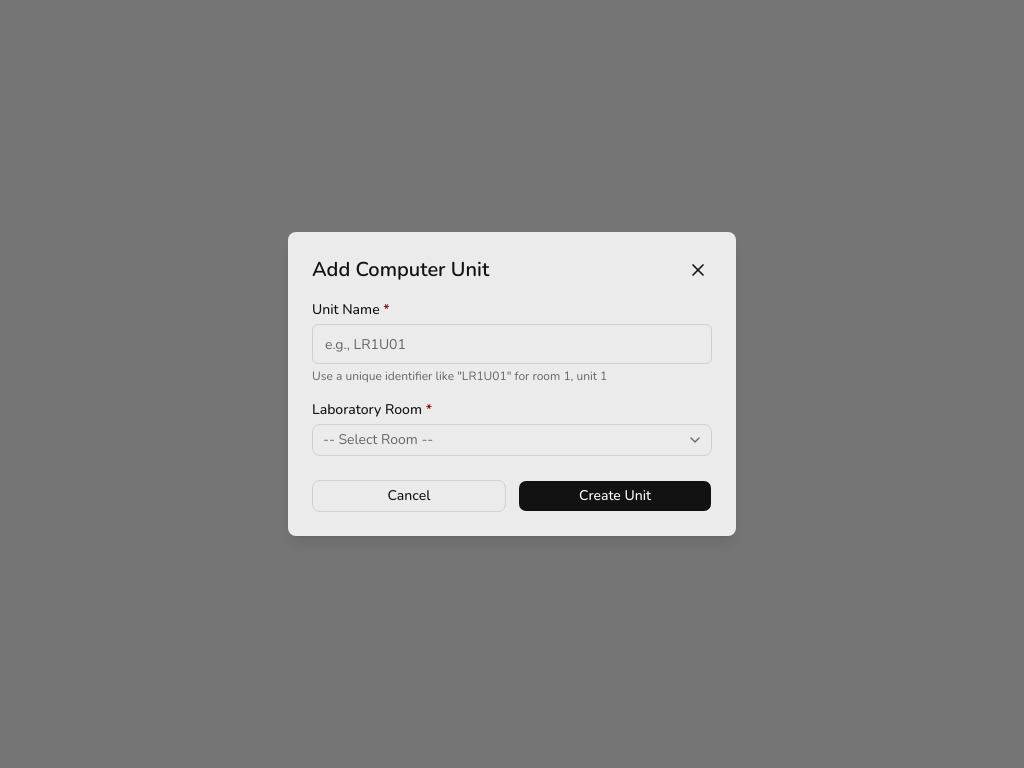
Test: AddUnitForm › shows error when submission fails
Type "U-001" into the field labelled "Unit Name *". click: (512, 344)
box: [312,324,712,364]
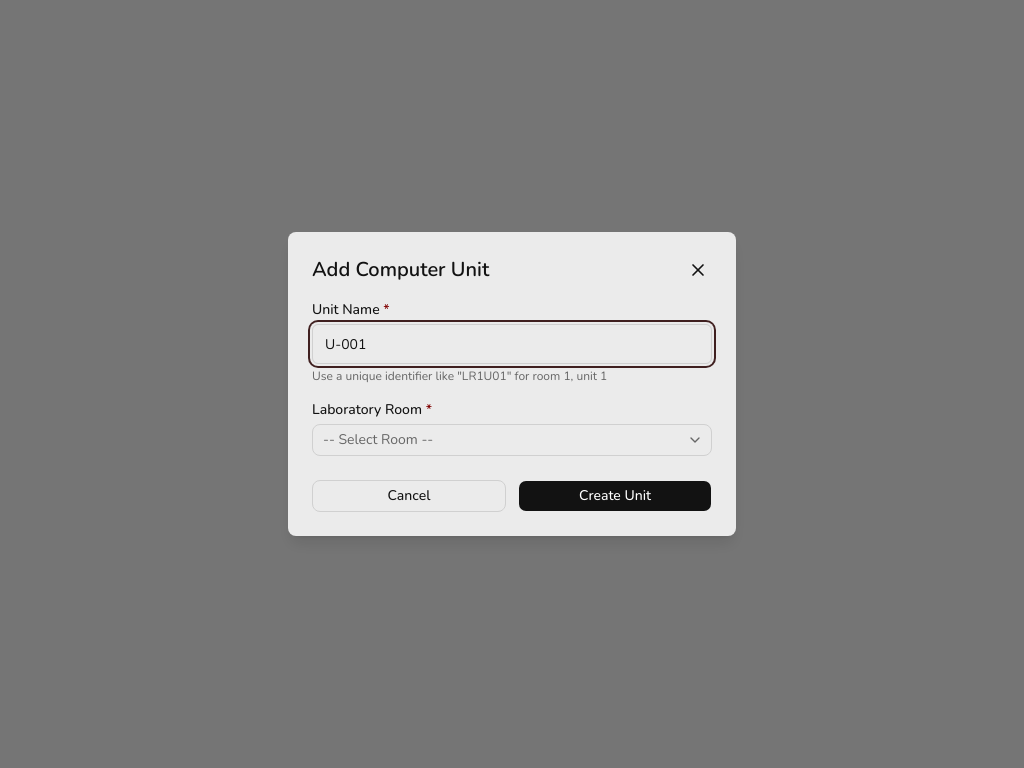
Click the button "Create Unit". click: click(615, 496)
box: [518,480,712,512]
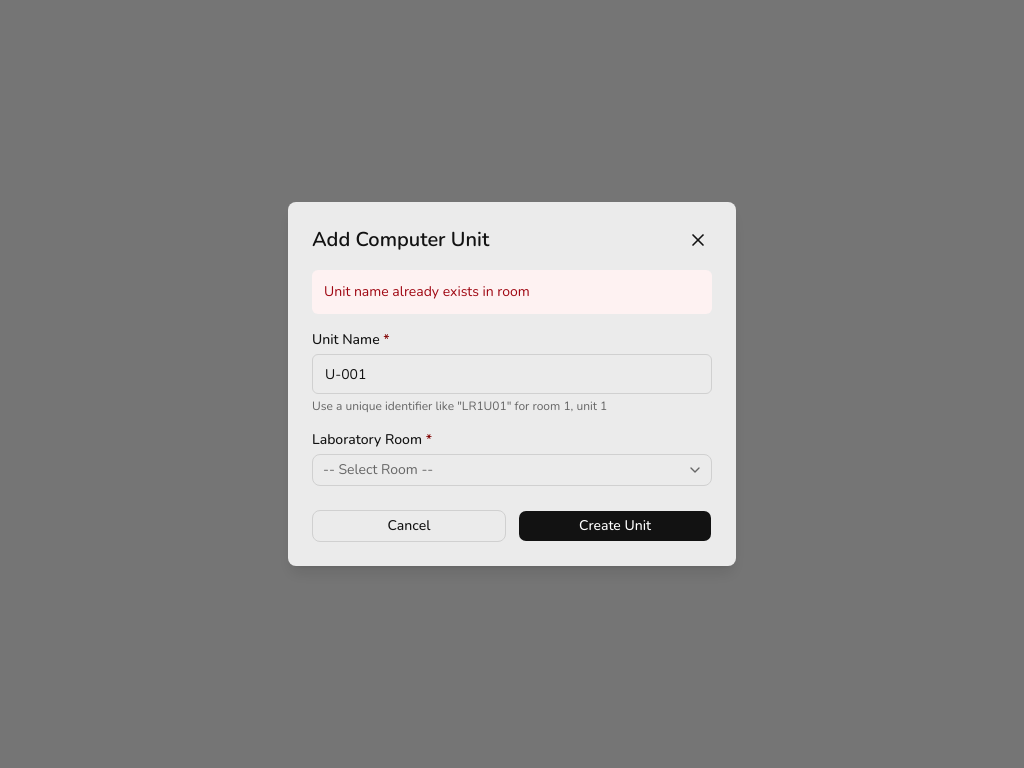
Expected: the text "Unit name already exists in room" is shown, [312,270,712,314]
